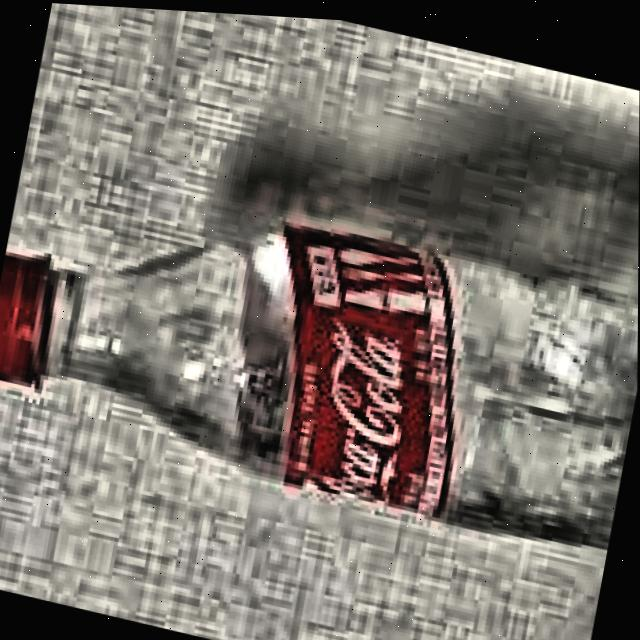plastic: (0, 101, 639, 583)
